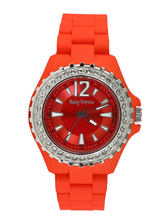watch: (24, 12, 146, 216)
